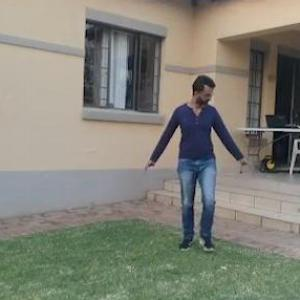land: (135, 66, 257, 265)
